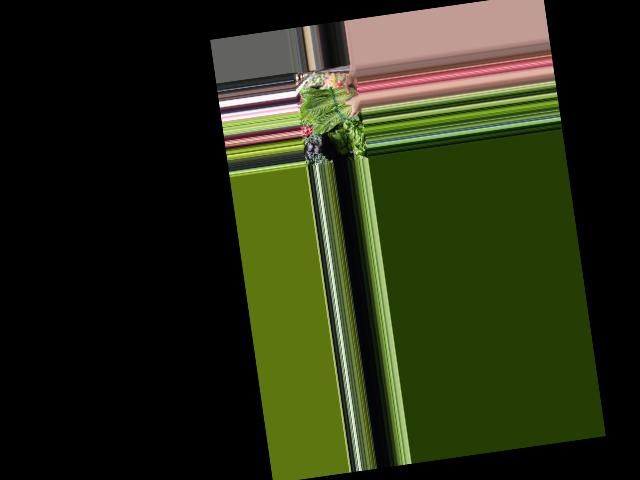lettuce: (299, 81, 365, 136)
